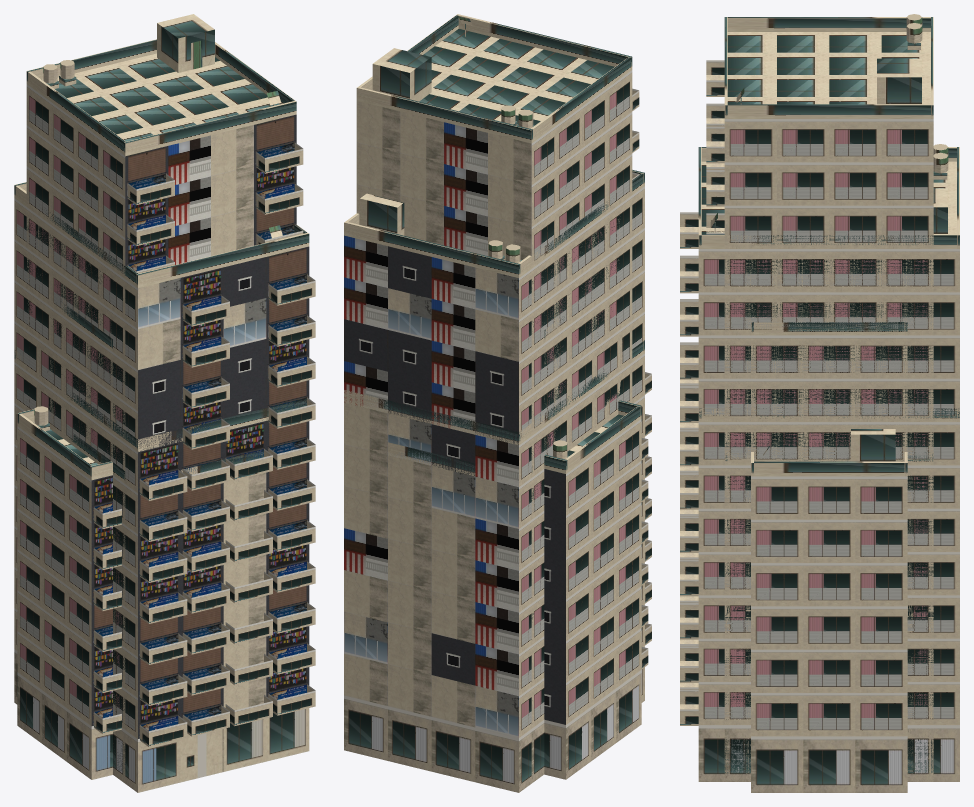
3 views of the same model, side by side, from view 1: azimuth 30°, elevation 25°; view 2: azimuth 150°, elevation 25°; view 3: azimuth 270°, elevation 25° (orthographic). The views are drawn at different scales.
Parts seen in each view (by area): view 1: Modern_4x4_f14_v1, Modern_4x5_f7_v1, Modern_4x5_f11_v1, Modern_5x3_f6_v0, Modern_2x5_f6_v1, Modern_4x3_f9_v0, Modern_4x4_f6_v1; view 2: Modern_4x4_f14_v1, Modern_4x5_f7_v1, Modern_4x5_f11_v1, Modern_5x3_f6_v0, Modern_2x5_f6_v1, Modern_4x3_f9_v0, Modern_4x4_f6_v1; view 3: Modern_4x4_f14_v1, Modern_5x3_f6_v0, Modern_4x5_f7_v1, Modern_4x5_f11_v1, Modern_4x3_f9_v0, Modern_4x4_f6_v1.
Boxes of the visible parts, x1,y1,x2,y2 form: Modern_4x4_f14_v1: (26, 14, 303, 474); Modern_4x5_f7_v1: (14, 350, 315, 792); Modern_4x5_f11_v1: (14, 182, 315, 451); Modern_5x3_f6_v0: (17, 406, 121, 779); Modern_2x5_f6_v1: (180, 449, 266, 782); Modern_4x3_f9_v0: (39, 285, 112, 461); Modern_4x4_f6_v1: (68, 433, 125, 783); Modern_4x4_f14_v1: (356, 14, 639, 477); Modern_4x5_f7_v1: (344, 340, 651, 792); Modern_4x5_f11_v1: (344, 170, 644, 444); Modern_5x3_f6_v0: (544, 400, 648, 779); Modern_2x5_f6_v1: (388, 442, 475, 781); Modern_4x3_f9_v0: (544, 294, 619, 456); Modern_4x4_f6_v1: (531, 463, 544, 783); Modern_4x4_f14_v1: (706, 14, 933, 465); Modern_5x3_f6_v0: (751, 429, 907, 792); Modern_4x5_f7_v1: (680, 379, 959, 781); Modern_4x5_f11_v1: (680, 144, 959, 422); Modern_4x3_f9_v0: (751, 322, 907, 461); Modern_4x4_f6_v1: (724, 452, 933, 781).
Bounding box in the file's own units: 17.5 × 51.7 × 18.75.
Materials: 1 (1 with a texture image).
